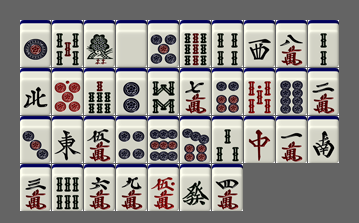0m: (148, 164, 179, 211)
0p: (52, 68, 83, 115)
0s: (244, 68, 275, 115)
1m: (276, 116, 307, 163)
1p: (20, 20, 51, 67)
1s: (84, 20, 115, 67)
1z: (52, 116, 83, 163)
2m: (308, 68, 339, 115)
2p: (116, 68, 147, 115)
2s: (308, 20, 339, 67)
2z: (308, 116, 339, 163)
3m: (20, 164, 51, 211)
3p: (20, 116, 51, 163)
3s: (212, 116, 243, 163)
3z: (244, 20, 275, 67)
4m: (212, 164, 243, 211)
4p: (116, 116, 147, 163)
4s: (212, 20, 243, 67)
4z: (20, 68, 51, 115)
5m: (84, 116, 115, 163)
5p: (148, 20, 179, 67)
5s: (52, 20, 83, 67)
5z: (116, 20, 147, 67)
6m: (84, 164, 115, 211)
6p: (212, 68, 243, 115)
6s: (52, 164, 83, 211)
6z: (180, 164, 211, 211)
7m: (180, 68, 211, 115)
7p: (180, 116, 211, 163)
7s: (84, 68, 115, 115)
7z: (244, 116, 275, 163)
8m: (276, 20, 307, 67)
8p: (276, 68, 307, 115)
8s: (148, 68, 179, 115)
9m: (116, 164, 147, 211)
9p: (148, 116, 179, 163)
9s: (180, 20, 211, 67)
